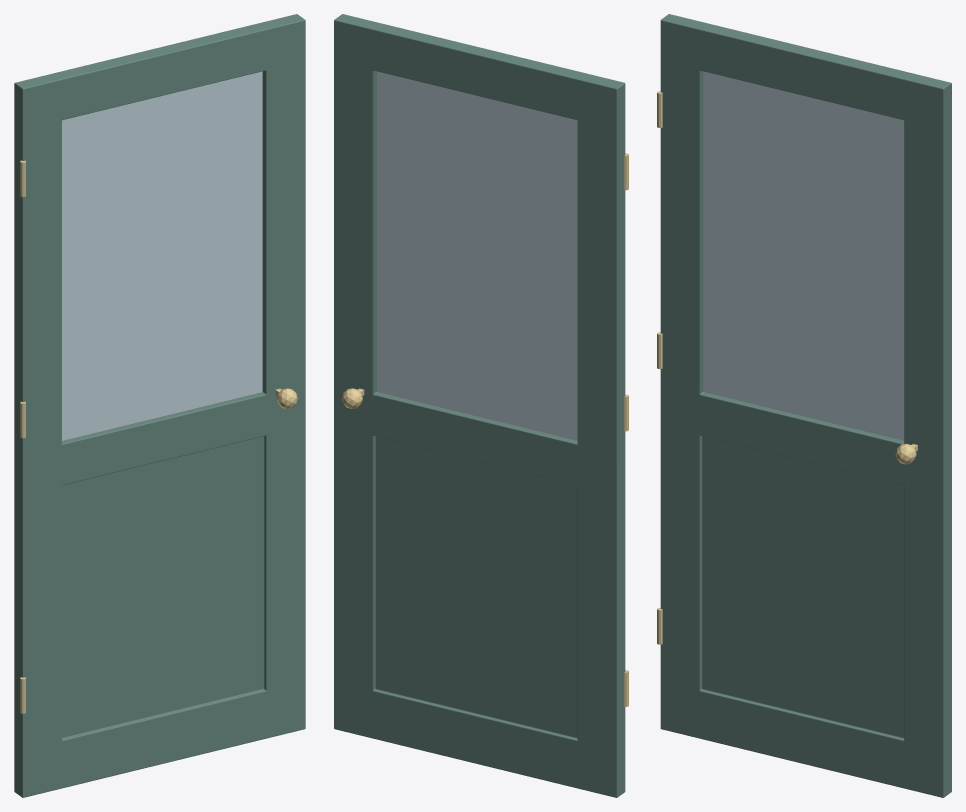
File: door_leaf_back.glb
3 renders of one model, left to right at view 1: azimuth 30°, elevation 25°; view 2: azimuth 150°, elevation 25°; view 3: azimuth 330°, elevation 25°, orthographic.
Visible parts, largest first — view 1: door_leaf_back_door, door_leaf_back_glass, door_leaf_back_brass; view 2: door_leaf_back_door, door_leaf_back_glass, door_leaf_back_brass; view 3: door_leaf_back_door, door_leaf_back_glass, door_leaf_back_brass.
Part boxes in pixels (bbox=[...]): door_leaf_back_door: bbox=[14, 14, 305, 797]; door_leaf_back_glass: bbox=[62, 71, 262, 440]; door_leaf_back_brass: bbox=[20, 160, 297, 713]; door_leaf_back_door: bbox=[334, 14, 625, 797]; door_leaf_back_glass: bbox=[377, 71, 577, 440]; door_leaf_back_brass: bbox=[342, 153, 628, 706]; door_leaf_back_door: bbox=[660, 14, 951, 797]; door_leaf_back_glass: bbox=[703, 71, 904, 440]; door_leaf_back_brass: bbox=[657, 91, 917, 644].
Size of the model in its own units: 0.868 by 2.06 by 0.201.
